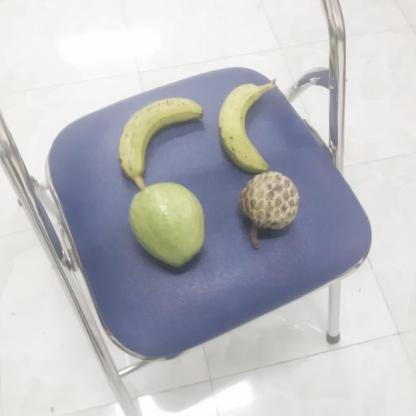annona: (236, 170, 300, 235)
banana: (115, 98, 201, 180), (214, 82, 275, 171)
guava: (124, 185, 206, 265)
